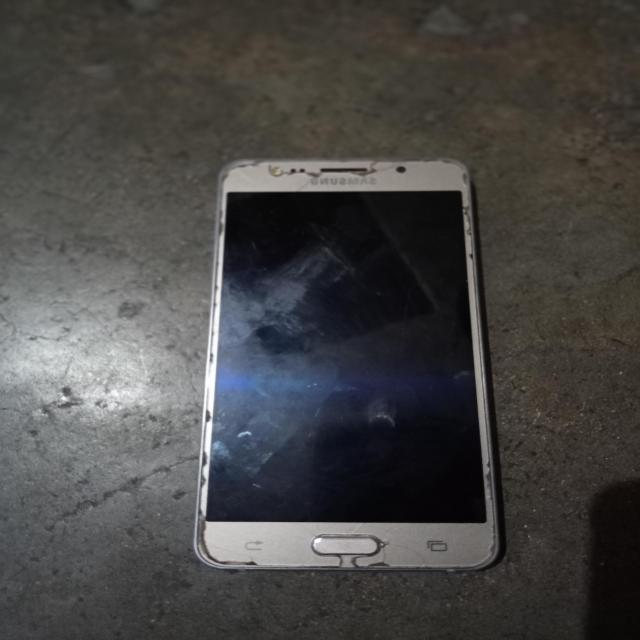mobile: (126, 132, 505, 598)
